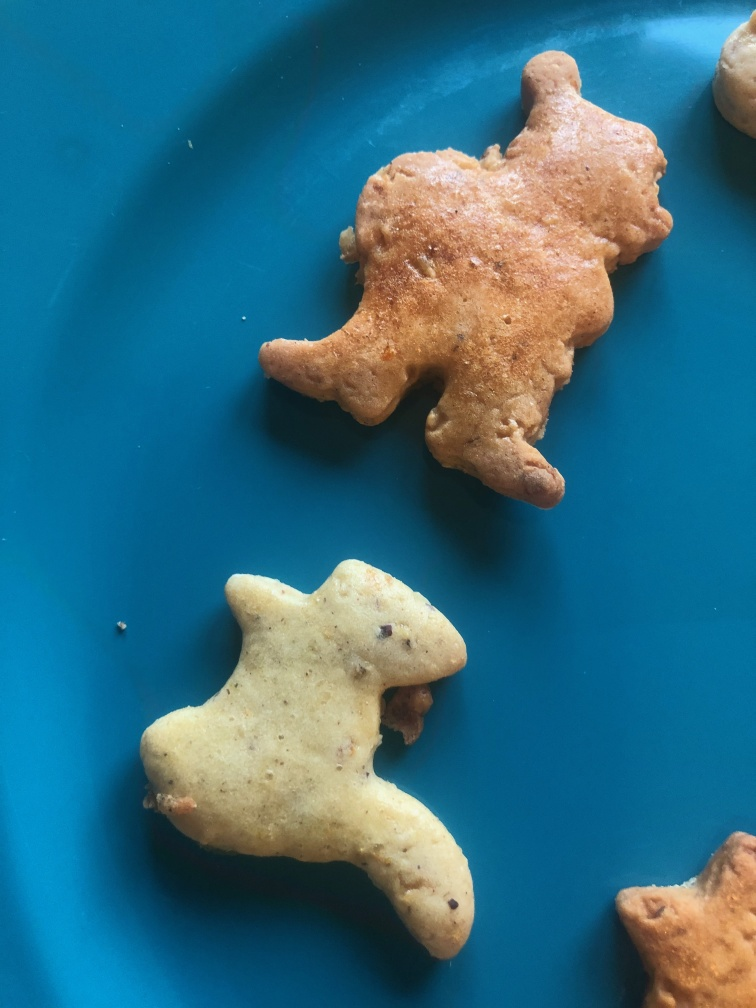santa claus: (251, 44, 672, 510)
squirrel: (131, 555, 486, 968)
star: (609, 827, 756, 1004)
